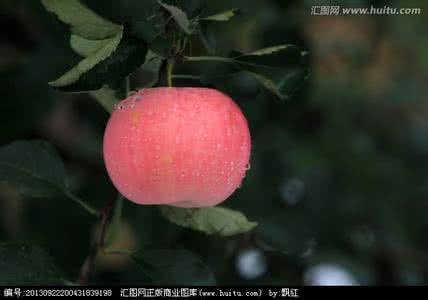apple: (97, 85, 253, 207)
